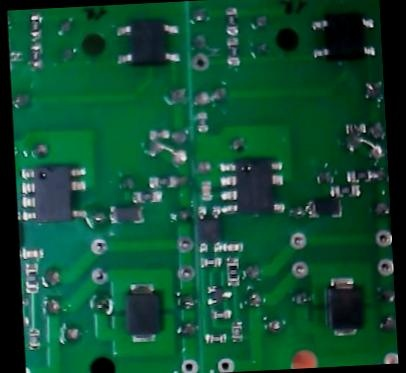chip-capacitor: (21, 245, 45, 259), (199, 179, 213, 200), (222, 240, 244, 251)
chip-resistor: (224, 35, 242, 67), (130, 187, 164, 203), (225, 253, 242, 285), (328, 181, 362, 197), (224, 2, 241, 33), (23, 261, 39, 292), (146, 173, 178, 188), (345, 166, 377, 181), (28, 11, 44, 40), (29, 42, 43, 69), (230, 318, 245, 342), (199, 254, 224, 267), (28, 326, 41, 350), (195, 110, 209, 132), (344, 120, 367, 133), (210, 307, 234, 319), (148, 127, 171, 139), (204, 331, 227, 343)
diode: (324, 273, 365, 337), (123, 279, 163, 342), (107, 200, 145, 224), (305, 195, 343, 218)
ic: (18, 160, 91, 223), (217, 153, 287, 216), (308, 9, 379, 62), (114, 17, 183, 66), (193, 203, 224, 253)
transistor: (204, 283, 234, 306)
